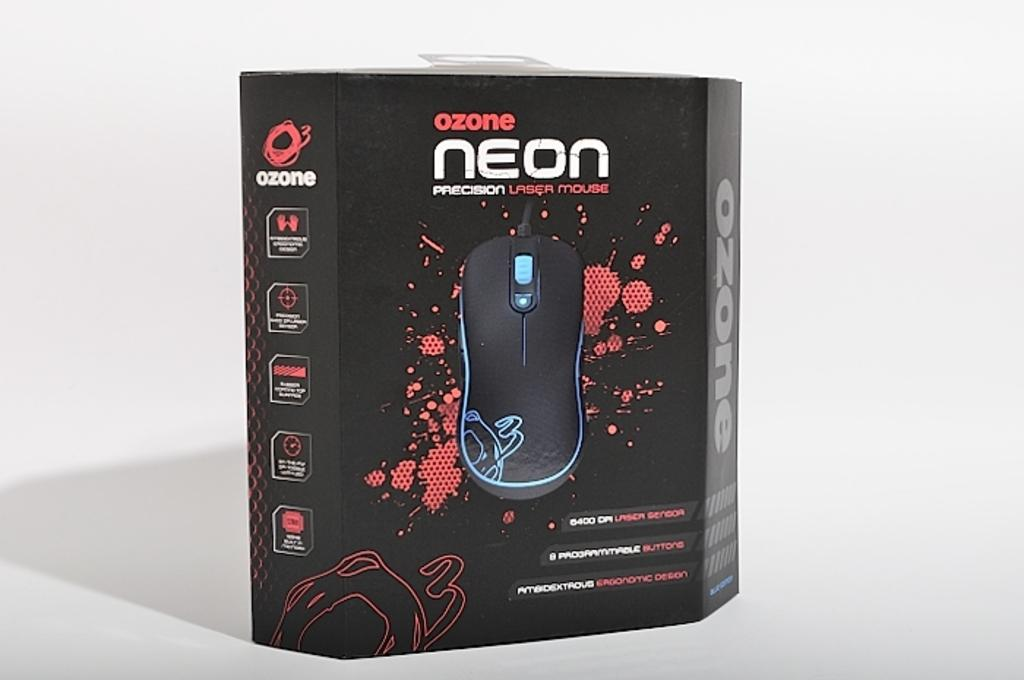Computer-mouse: (461, 233, 585, 494)
